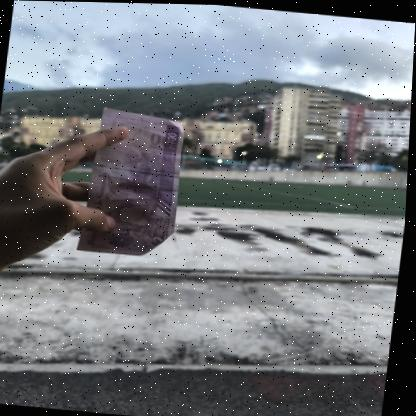one_hundred-back-vef: (79, 105, 191, 259)
